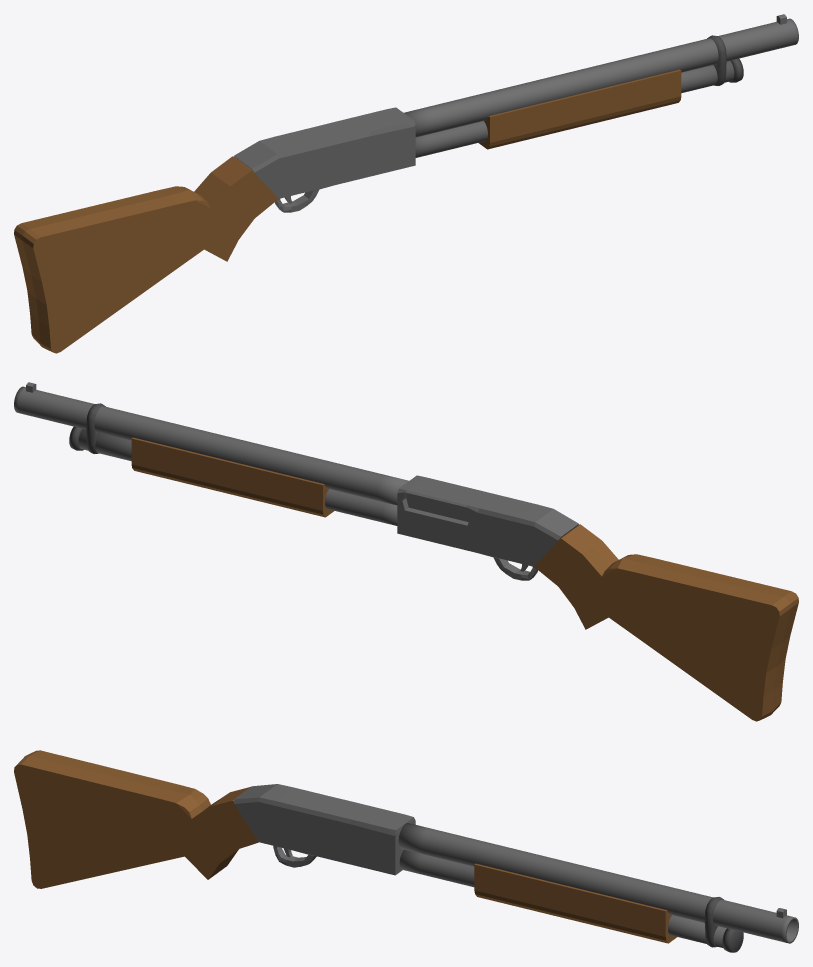
File: shotgun.fbx
3 renders of one model, top to bottom at view 1: azimuth 30°, elevation 25°; view 2: azimuth 150°, elevation 25°; view 3: azimuth 330°, elevation 25°, orthographic.
Visible parts, largest first — view 1: Cross, Chamber, Barrel, Pump, shell chamber; view 2: Cross, Chamber, Barrel, Pump, shell chamber; view 3: Cross, Chamber, Barrel, Pump, shell chamber, Circle, Cylinder.
Boxes of the visible parts, x1,y1,x2,y2 form: Cross: (14,156,278,353); Chamber: (234,107,415,212); Barrel: (404,18,798,137); Pump: (478,69,681,149); shell chamber: (415,61,734,157); Cross: (534,524,798,721); Chamber: (397,475,578,580); Barrel: (14,386,408,505); Pump: (131,437,334,517); shell chamber: (78,429,397,525); Cross: (14,750,258,888); Chamber: (234,784,415,875); Barrel: (398,823,798,943); Pump: (474,863,676,943); shell chamber: (399,849,726,947); Circle: (704,897,723,947); Cylinder: (722,928,743,952).
Bounding box in the file's own units: 486 × 92.73 × 22.03.
